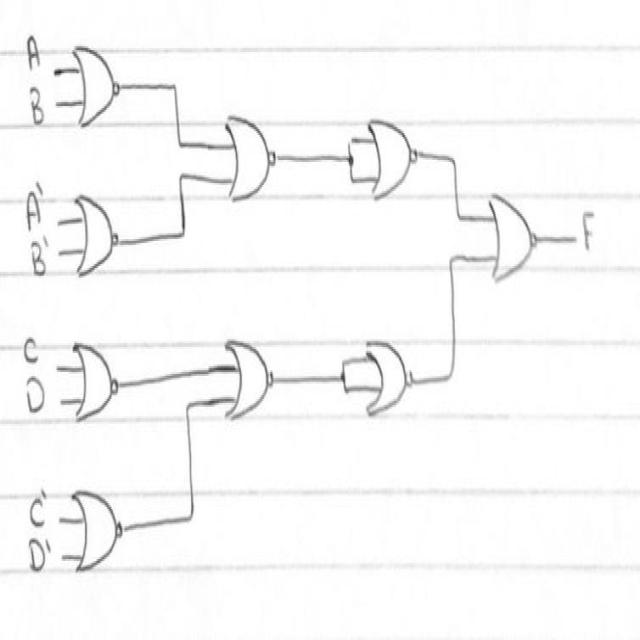NOR: (219, 93, 284, 221), (484, 177, 545, 294), (66, 474, 128, 586), (364, 95, 424, 209), (216, 329, 279, 432), (72, 175, 128, 288), (68, 30, 124, 142), (69, 324, 122, 434), (358, 324, 416, 424)
